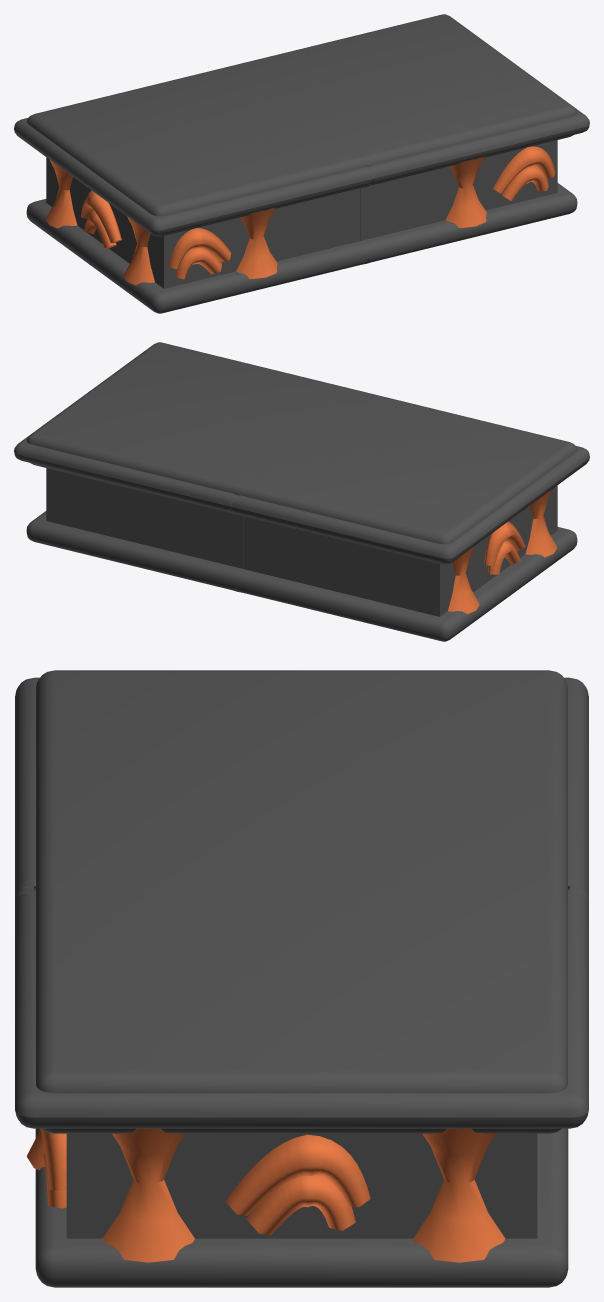
File: platform.glb
3 views of the same model, one above another, from view 1: azimuth 30°, elevation 25°; view 2: azimuth 150°, elevation 25°; view 3: azimuth 270°, elevation 25° (orthographic). The views are drawn at different scales.
Parts seen in each view (by area): view 1: BaseAndPlatform, Box, Cylinder, BézierCurve, Cylinder.028, BézierCurve.001, BézierCurve.002, BézierCurve.003; view 2: BaseAndPlatform, Box, Cylinder.028, BézierCurve.002, BézierCurve.003; view 3: BaseAndPlatform, Box, Cylinder.028, BézierCurve.002, BézierCurve.003, BézierCurve.
Boxes of the visible parts, box(x1,y1,x2,y2) form: BaseAndPlatform: box(14, 14, 589, 313); Box: box(46, 140, 557, 288); Cylinder: box(236, 156, 486, 278); BézierCurve: box(168, 146, 555, 269); Cylinder.028: box(46, 160, 154, 285); BézierCurve.001: box(175, 166, 549, 279); BézierCurve.002: box(81, 190, 121, 243); BézierCurve.003: box(84, 210, 116, 248); BaseAndPlatform: box(14, 342, 589, 641); Box: box(46, 468, 557, 616); Cylinder.028: box(448, 488, 556, 614); BézierCurve.002: box(484, 521, 525, 565); BézierCurve.003: box(488, 541, 520, 574); BaseAndPlatform: box(15, 670, 588, 1287); Box: box(66, 1133, 537, 1238); Cylinder.028: box(102, 1128, 505, 1262); BézierCurve.002: box(225, 1134, 370, 1215); BézierCurve.003: box(247, 1175, 355, 1235); BézierCurve: box(40, 1128, 66, 1190).
Bounding box in the file's own units: 13.25 × 3.1 × 7.49.
